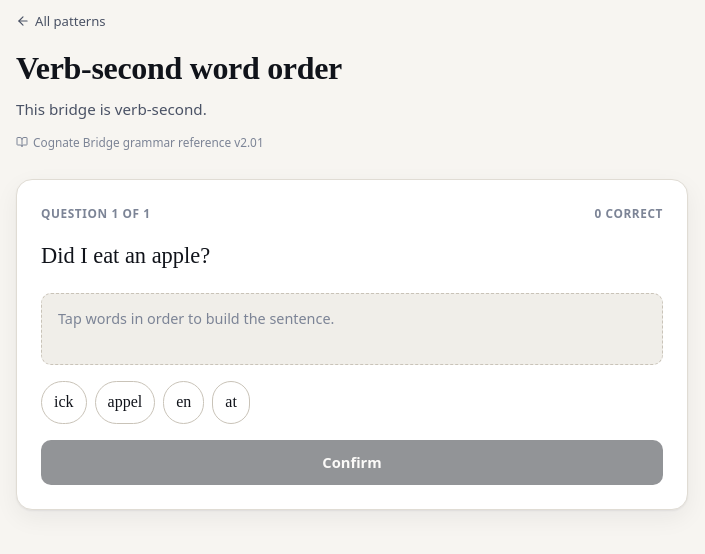
Test: GrammarDrillPage › does not mark a word-order answer until Confirm
The image size is (705, 554).
Expected: the text "Did I eat an apple?" is shown, [41, 243, 210, 268]
Click the button "at". click: (231, 402)
box: [212, 381, 250, 424]
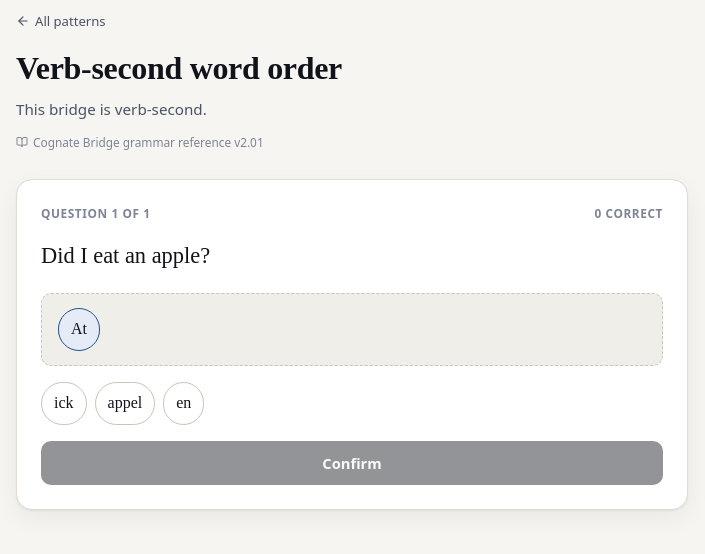
Expected: the button "At" is shown, [58, 308, 100, 351]
Expected: the button "Finish" is not shown
Click the button "ick". click: (64, 403)
box: [41, 382, 86, 425]
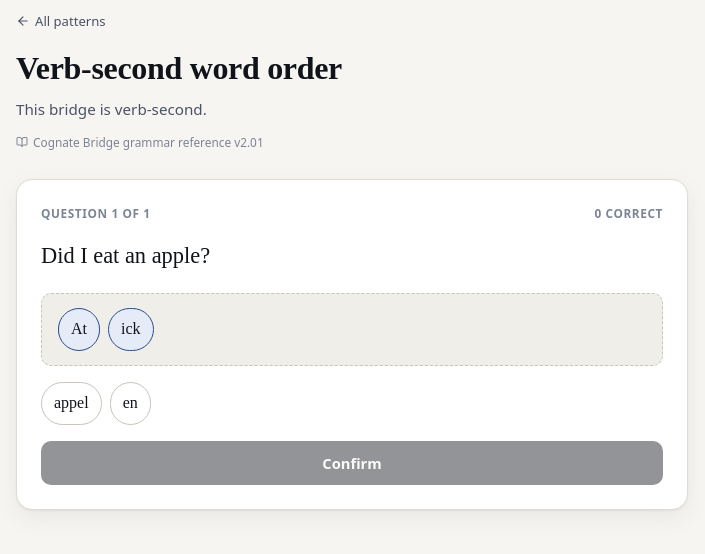
Click the button "en". click: (130, 403)
box: [110, 382, 151, 425]
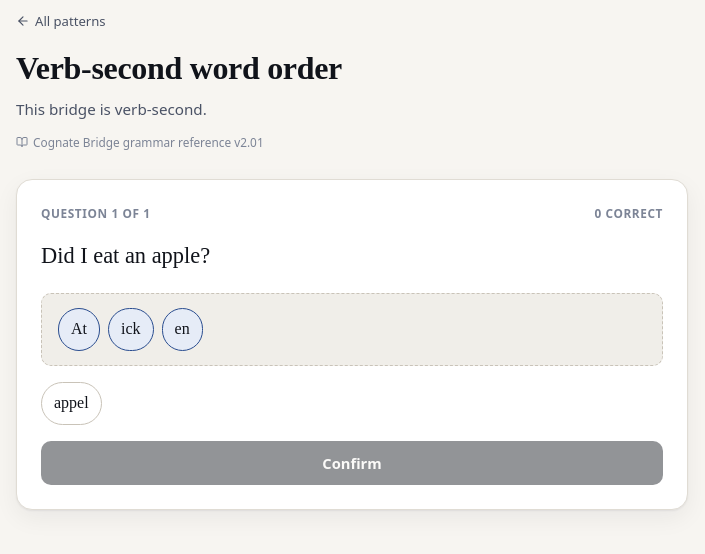
Click the button "appel". click: (71, 403)
box: [41, 382, 102, 425]
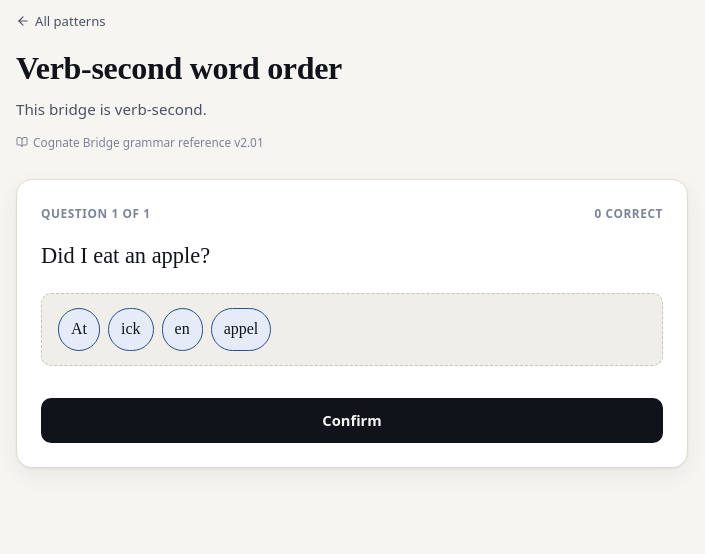
Click the button "Confirm". click: (352, 420)
box: [41, 398, 663, 443]
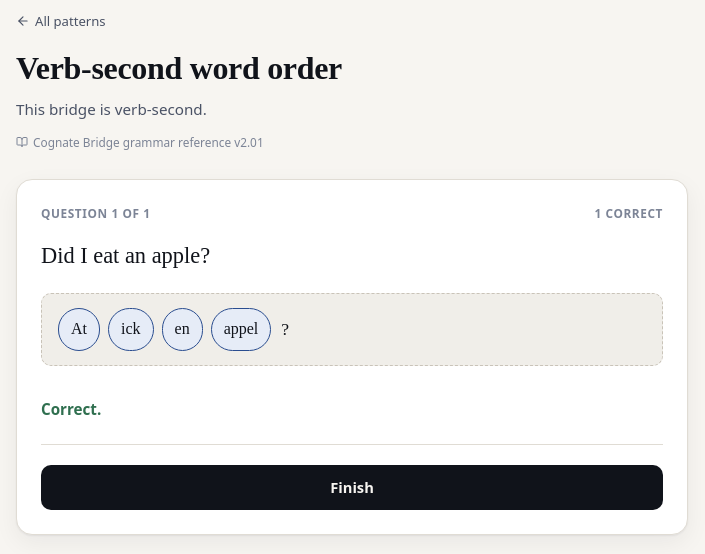
Result: the text "Correct." is shown at [41, 399, 101, 419]
Click the button "Finish". click: (352, 487)
box: [41, 465, 663, 510]
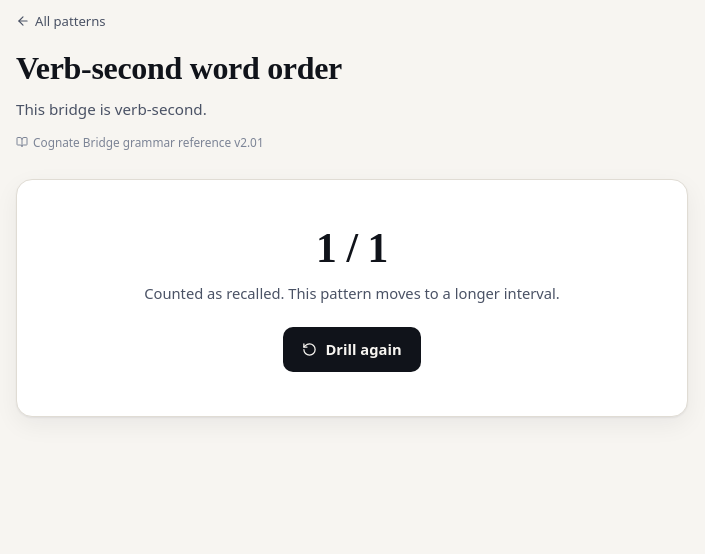
Result: the text "moves to a longer interval" is shown at [144, 283, 560, 303]
